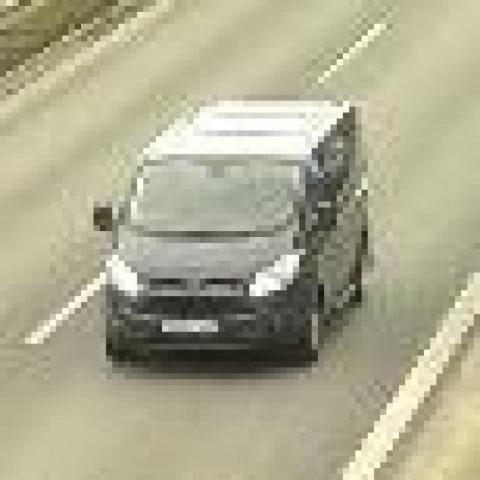van: (103, 101, 364, 362)
